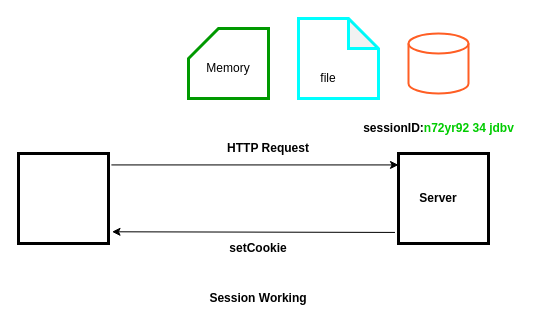
The diagram is 533 pixels wide and 331 high, and some of its shapes have lost their labels. Each missing label, with the centre of its shape:
"client" belongs at (x=63, y=198).
"database" belongs at (x=438, y=63).
